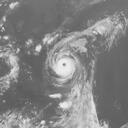cyclone: (44, 40, 83, 88)
